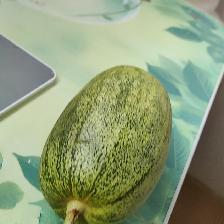gua: (70, 76, 153, 200)
